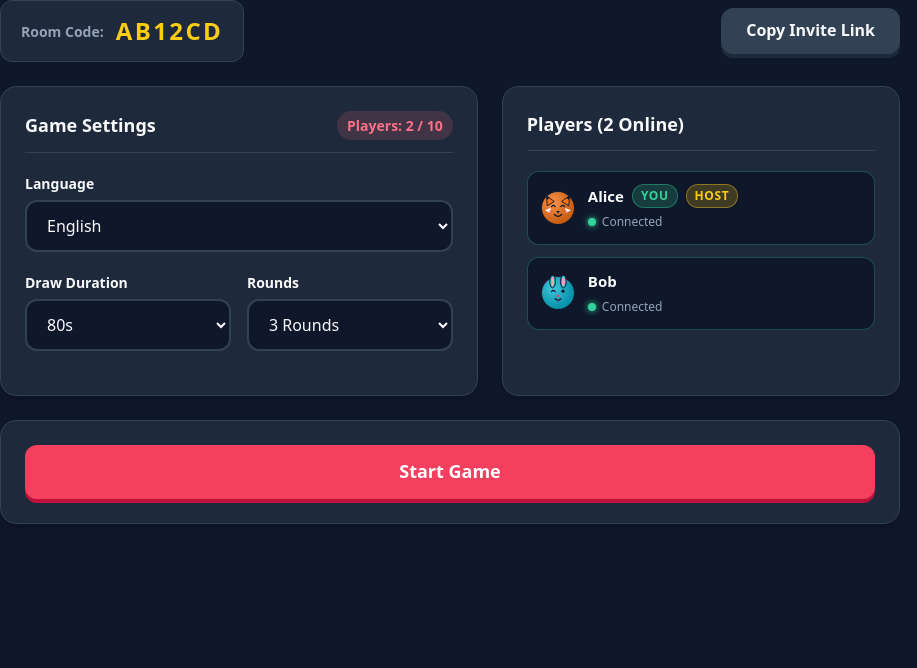
it: RoomLobby › shows selectable URL and failure feedback when clipboard fails
This screenshot has width=917, height=668.
Click the button "Copy Invite Link" at x=811, y=31, box 721,8 -> 900,54
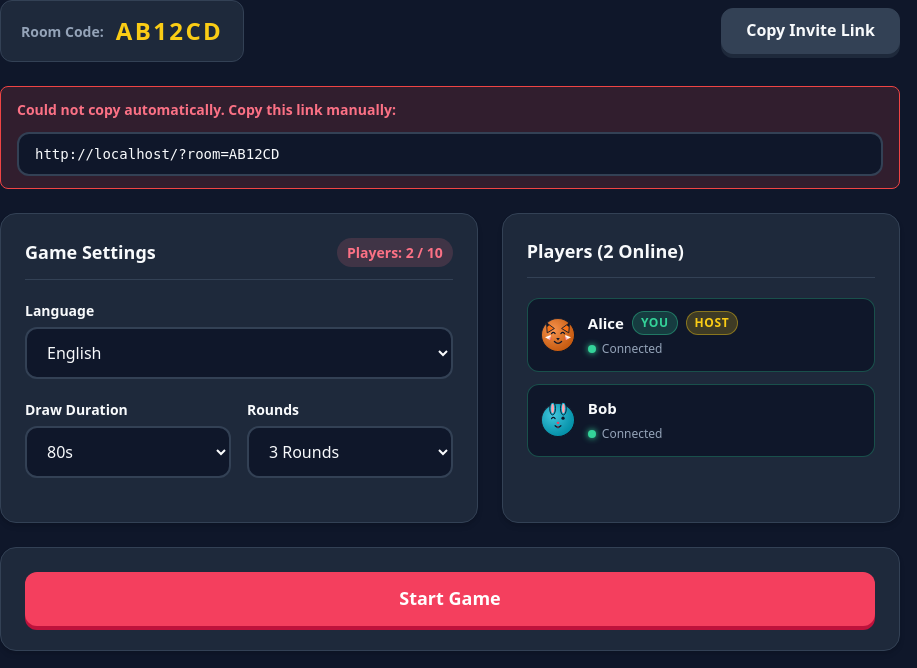
expect the text "Could not copy automatically. Copy this link manually:" is shown: met, box 17,100 -> 396,119
